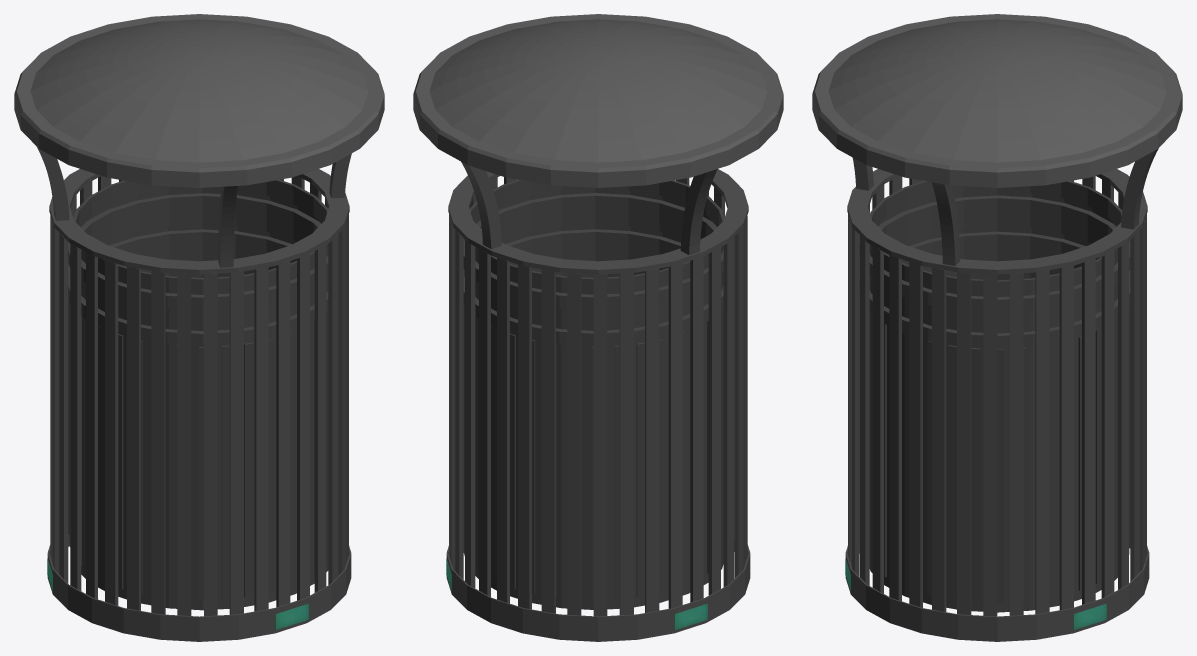
3 views of the same model, side by side, from view 1: azimuth 30°, elevation 25°; view 2: azimuth 150°, elevation 25°; view 3: azimuth 270°, elevation 25° (orthographic).
Visible parts, largest first — view 1: mesh191_mesh191-geometry, mesh161_mesh161-geometry, mesh1_mesh1-geometry, mesh6_mesh6-geometry, mesh13_mesh13-geometry, mesh19_mesh19-geometry, mesh17_mesh17-geometry, mesh11_mesh11-geometry, mesh79_mesh79-geometry, mesh21_mesh21-geometry, mesh23_mesh23-geometry, mesh15_mesh15-geometry (+23 smaller); view 2: mesh191_mesh191-geometry, mesh161_mesh161-geometry, mesh1_mesh1-geometry, mesh6_mesh6-geometry, mesh39_mesh39-geometry, mesh43_mesh43-geometry, mesh35_mesh35-geometry, mesh33_mesh33-geometry, mesh41_mesh41-geometry, mesh37_mesh37-geometry, mesh45_mesh45-geometry, mesh31_mesh31-geometry (+21 smaller); view 3: mesh191_mesh191-geometry, mesh161_mesh161-geometry, mesh1_mesh1-geometry, mesh6_mesh6-geometry, mesh61_mesh61-geometry, mesh59_mesh59-geometry, mesh65_mesh65-geometry, mesh57_mesh57-geometry, mesh67_mesh67-geometry, mesh63_mesh63-geometry, mesh53_mesh53-geometry, mesh55_mesh55-geometry (+21 smaller).
Part boxes in pixels (x1,y1,x2,y2): mesh191_mesh191-geometry: [14, 14, 384, 187]; mesh161_mesh161-geometry: [68, 179, 328, 610]; mesh1_mesh1-geometry: [47, 534, 351, 641]; mesh6_mesh6-geometry: [49, 169, 349, 274]; mesh13_mesh13-geometry: [229, 271, 243, 614]; mesh19_mesh19-geometry: [151, 271, 165, 614]; mesh17_mesh17-geometry: [177, 273, 191, 615]; mesh11_mesh11-geometry: [254, 267, 268, 611]; mesh79_mesh79-geometry: [276, 261, 290, 607]; mesh21_mesh21-geometry: [127, 266, 140, 610]; mesh23_mesh23-geometry: [105, 260, 118, 605]; mesh15_mesh15-geometry: [204, 273, 217, 616]; mesh191_mesh191-geometry: [413, 14, 783, 187]; mesh161_mesh161-geometry: [463, 179, 724, 609]; mesh1_mesh1-geometry: [446, 540, 750, 641]; mesh6_mesh6-geometry: [448, 169, 748, 274]; mesh39_mesh39-geometry: [593, 274, 607, 616]; mesh43_mesh43-geometry: [541, 269, 555, 613]; mesh35_mesh35-geometry: [645, 268, 659, 612]; mesh33_mesh33-geometry: [668, 263, 682, 608]; mesh41_mesh41-geometry: [567, 273, 581, 615]; mesh37_mesh37-geometry: [619, 272, 633, 615]; mesh45_mesh45-geometry: [518, 264, 531, 609]; mesh31_mesh31-geometry: [690, 256, 703, 602]; mesh191_mesh191-geometry: [812, 14, 1182, 187]; mesh161_mesh161-geometry: [859, 181, 1130, 612]; mesh1_mesh1-geometry: [845, 544, 1149, 641]; mesh6_mesh6-geometry: [847, 169, 1147, 274]; mesh61_mesh61-geometry: [1009, 273, 1023, 615]; mesh59_mesh59-geometry: [1035, 270, 1049, 614]; mesh65_mesh65-geometry: [957, 272, 971, 614]; mesh57_mesh57-geometry: [1059, 265, 1073, 609]; mesh67_mesh67-geometry: [932, 268, 946, 611]; mesh63_mesh63-geometry: [983, 273, 997, 616]; mesh53_mesh53-geometry: [1101, 250, 1114, 598]; mesh55_mesh55-geometry: [1082, 258, 1095, 604].
Size of the model in its own units: 0.474 by 0.7421 by 0.474.
